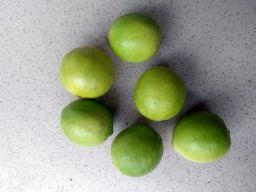lemon: (170, 108, 233, 165), (131, 64, 189, 123), (109, 120, 165, 179), (59, 45, 116, 100), (106, 11, 165, 64), (58, 96, 116, 149)
